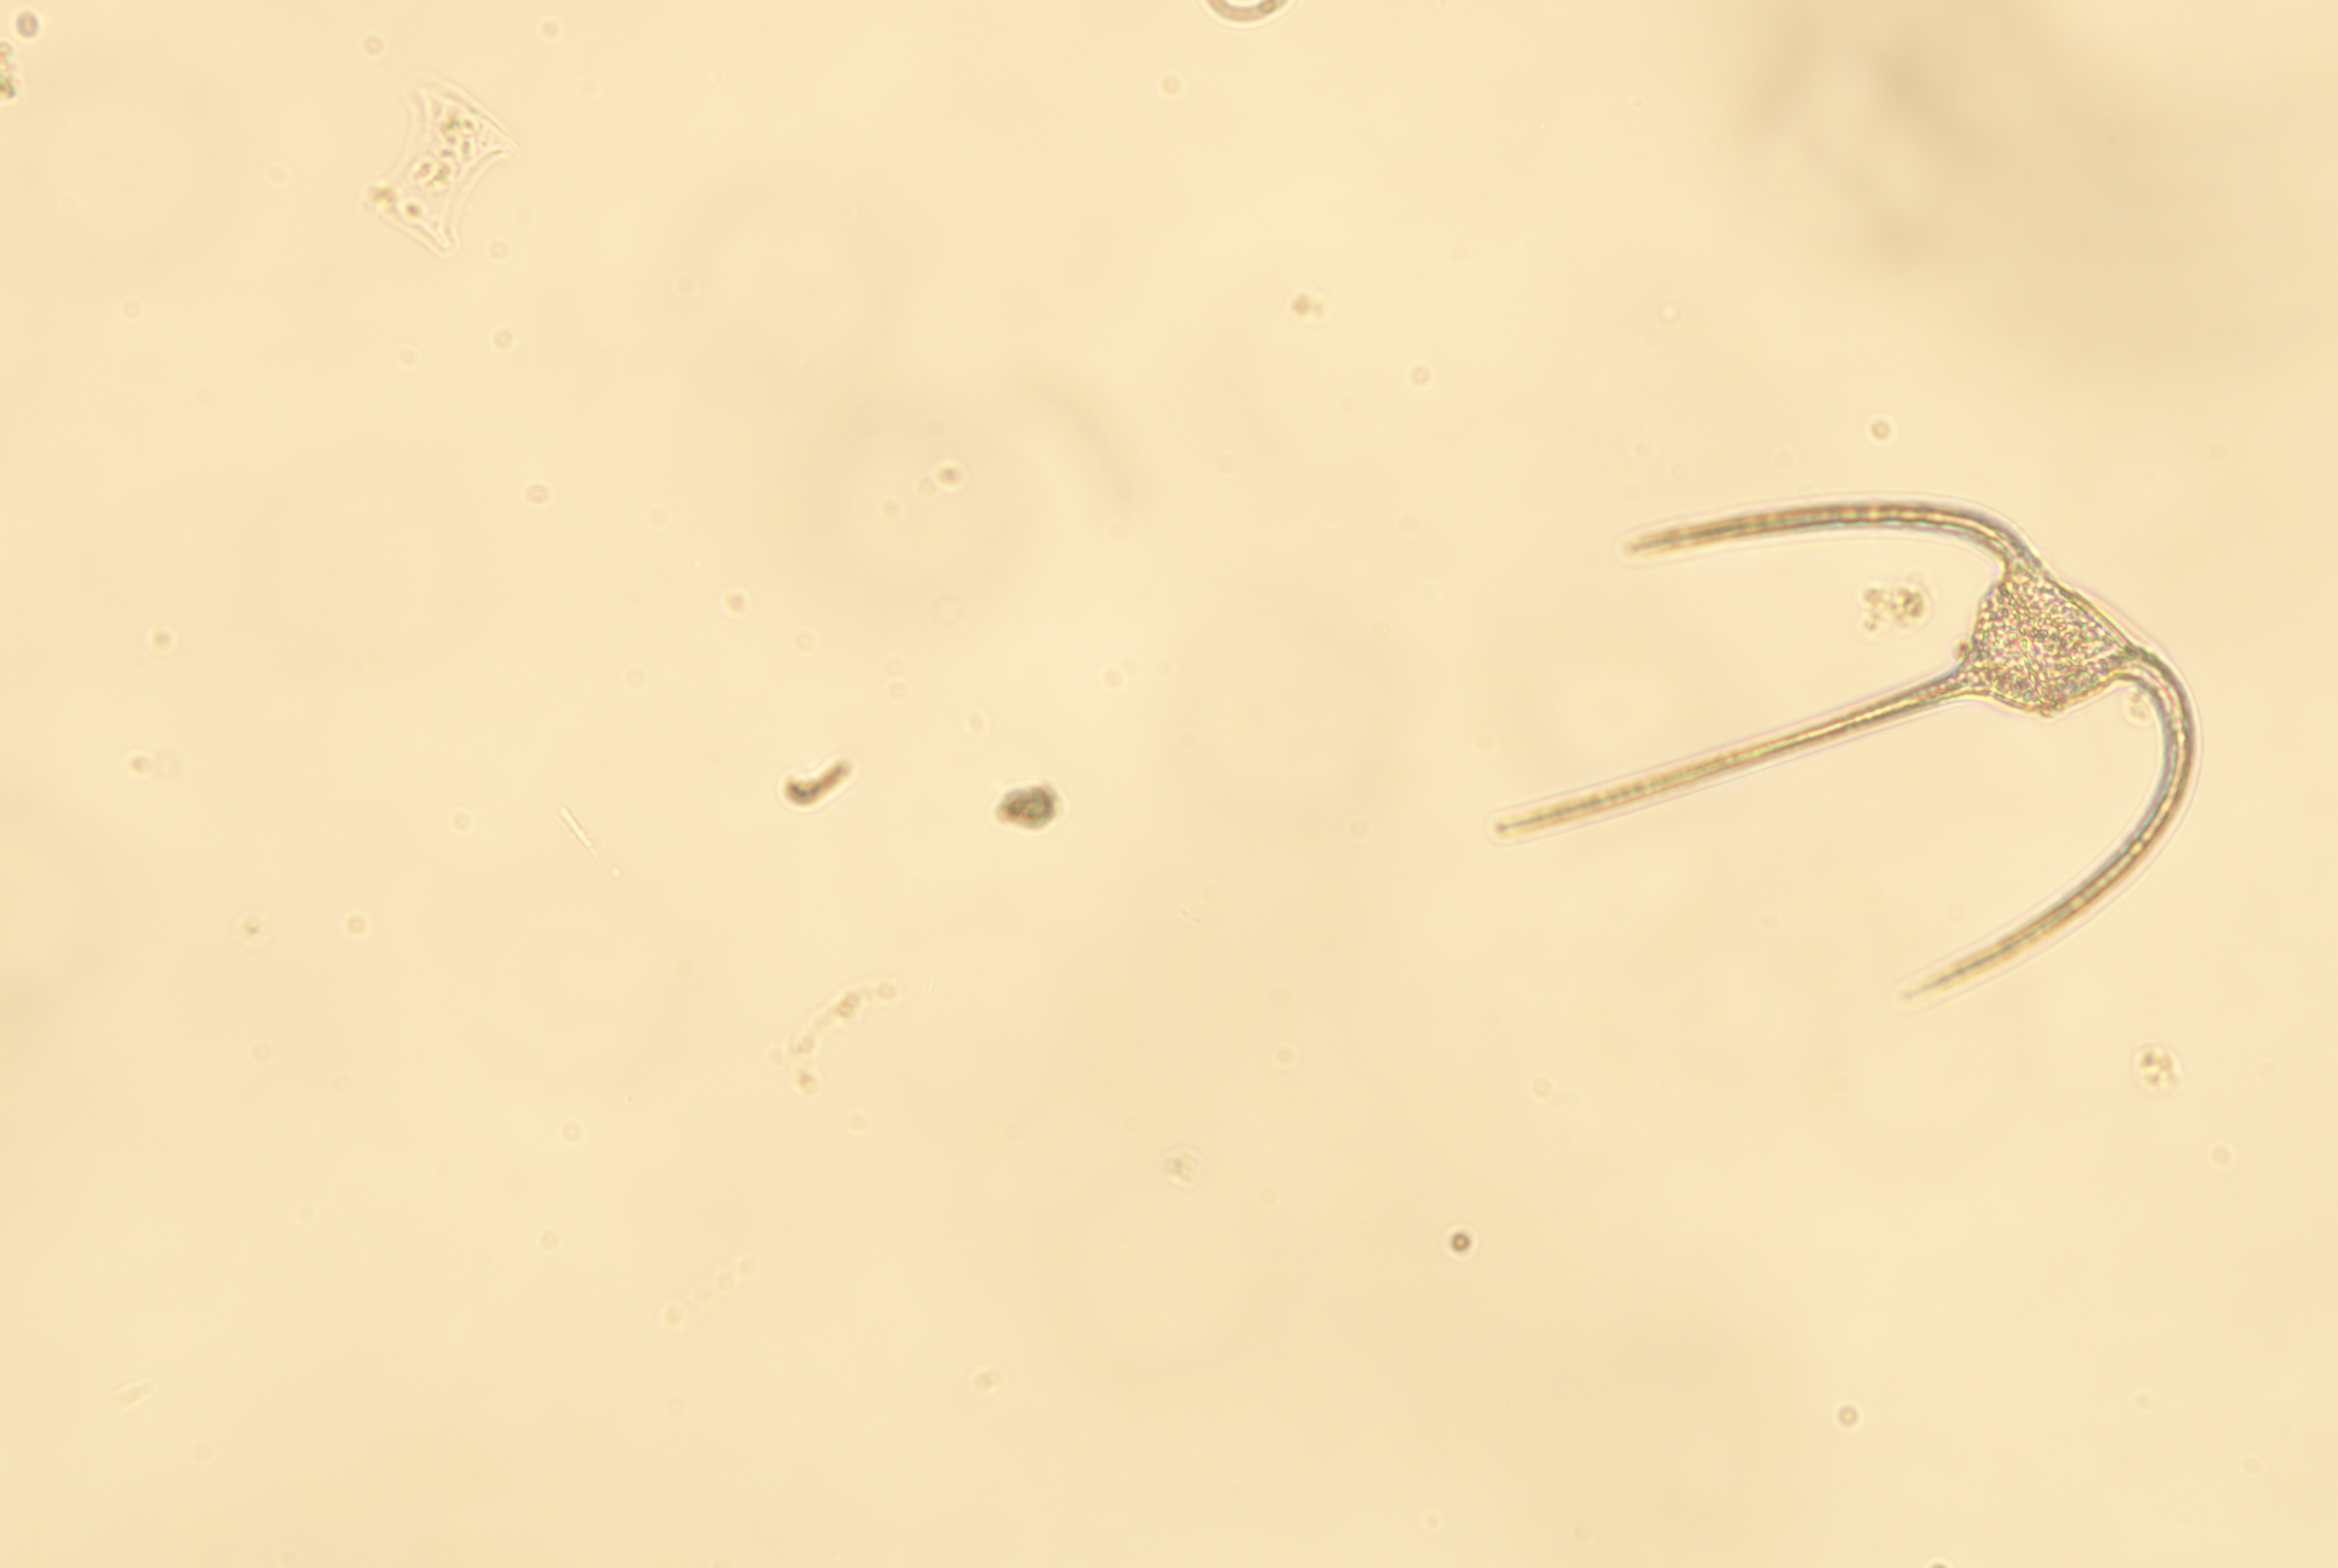ceratium trichoceros: (1481, 490, 2214, 1018)
